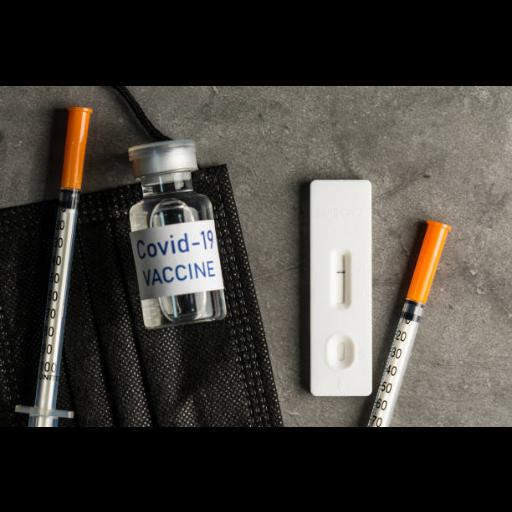Neg: (308, 179, 372, 395)
